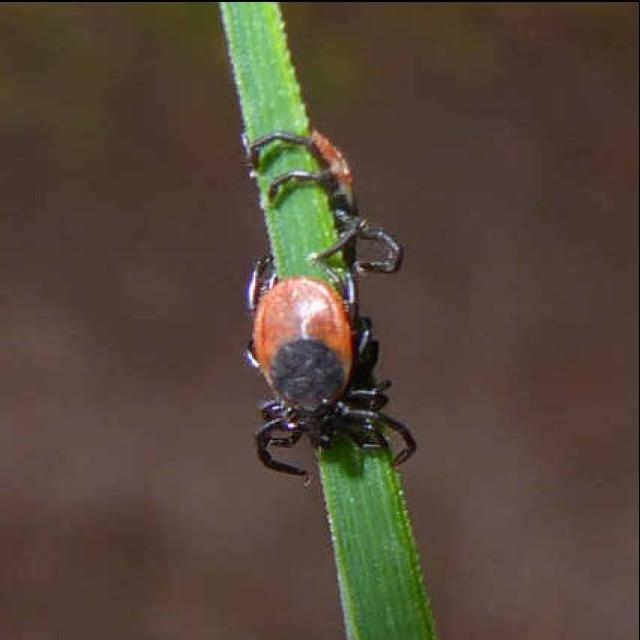Ixodes Ricinus-F: (247, 261, 417, 474)
